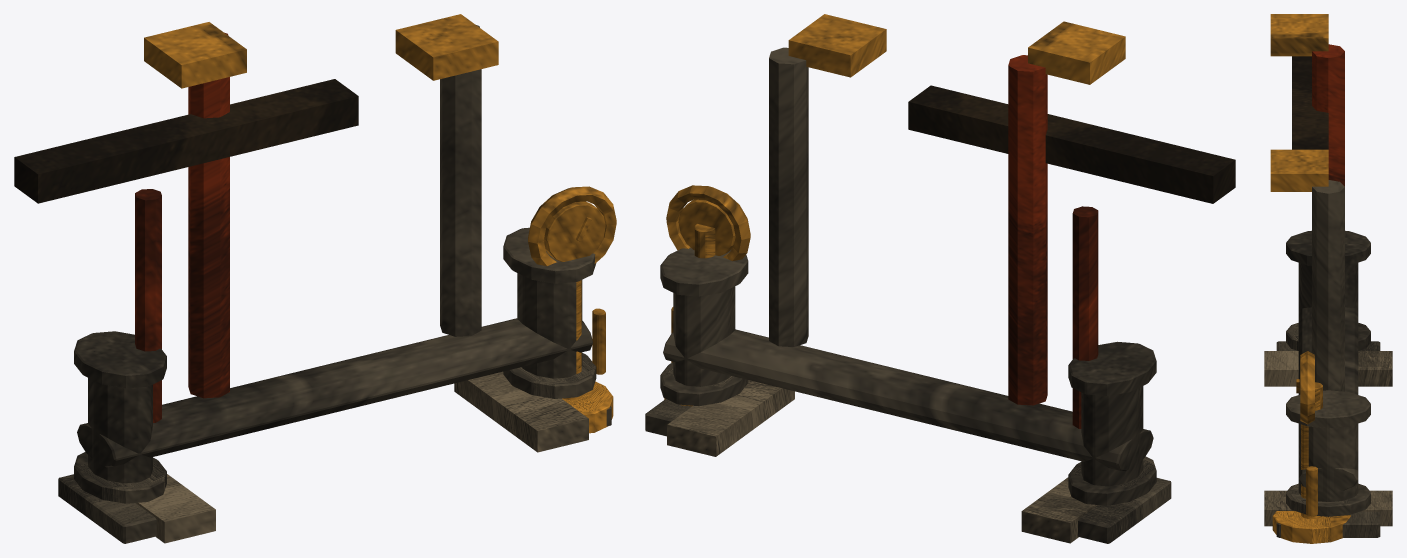
Rendered from east-terrace-pipe-header.glb.
3 renders of one model, left to right at view 1: azimuth 30°, elevation 25°; view 2: azimuth 150°, elevation 25°; view 3: azimuth 270°, elevation 25°, orthographic. The views are drawn at different scales.
Parts seen in each view (by area): view 1: east-terrace-pipe-header; view 2: east-terrace-pipe-header; view 3: east-terrace-pipe-header.
Part boxes in pixels (x1,y1,x2,y2): east-terrace-pipe-header: (14,14,616,543); east-terrace-pipe-header: (645,14,1235,543); east-terrace-pipe-header: (1264,14,1392,543).
Bounding box in the file's own units: 6.32 × 4.82 × 1.55.
1 material, 1 textured.
